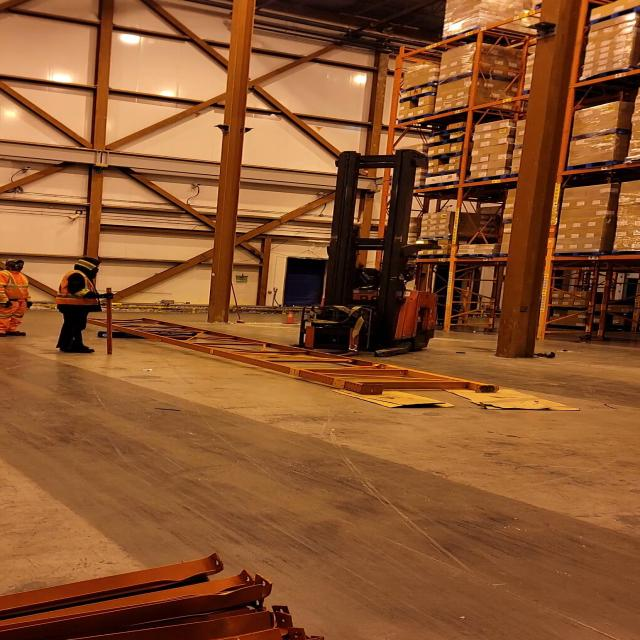forklift: (284, 155, 441, 360)
human: (52, 257, 114, 356), (339, 252, 420, 296), (0, 257, 30, 340)
objectofinterest: (82, 313, 505, 396), (430, 375, 584, 413), (324, 380, 460, 410), (95, 326, 141, 342)
